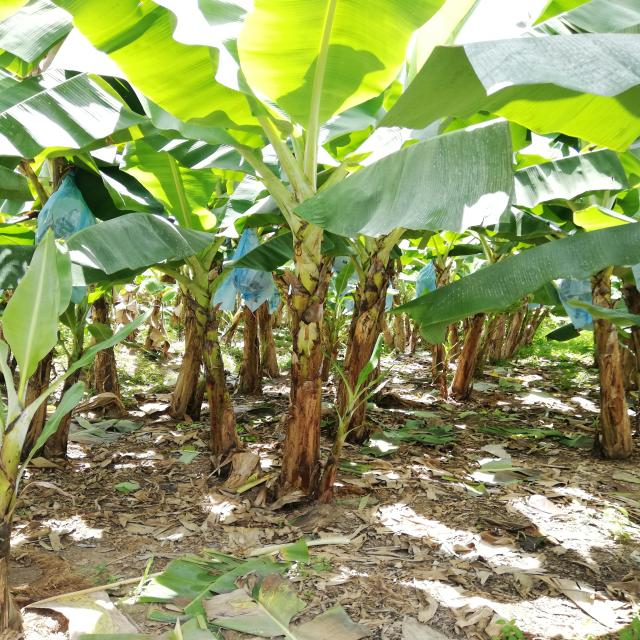Banana-plant: (266, 97, 341, 515), (326, 188, 427, 446), (155, 196, 246, 469), (560, 189, 640, 466)
